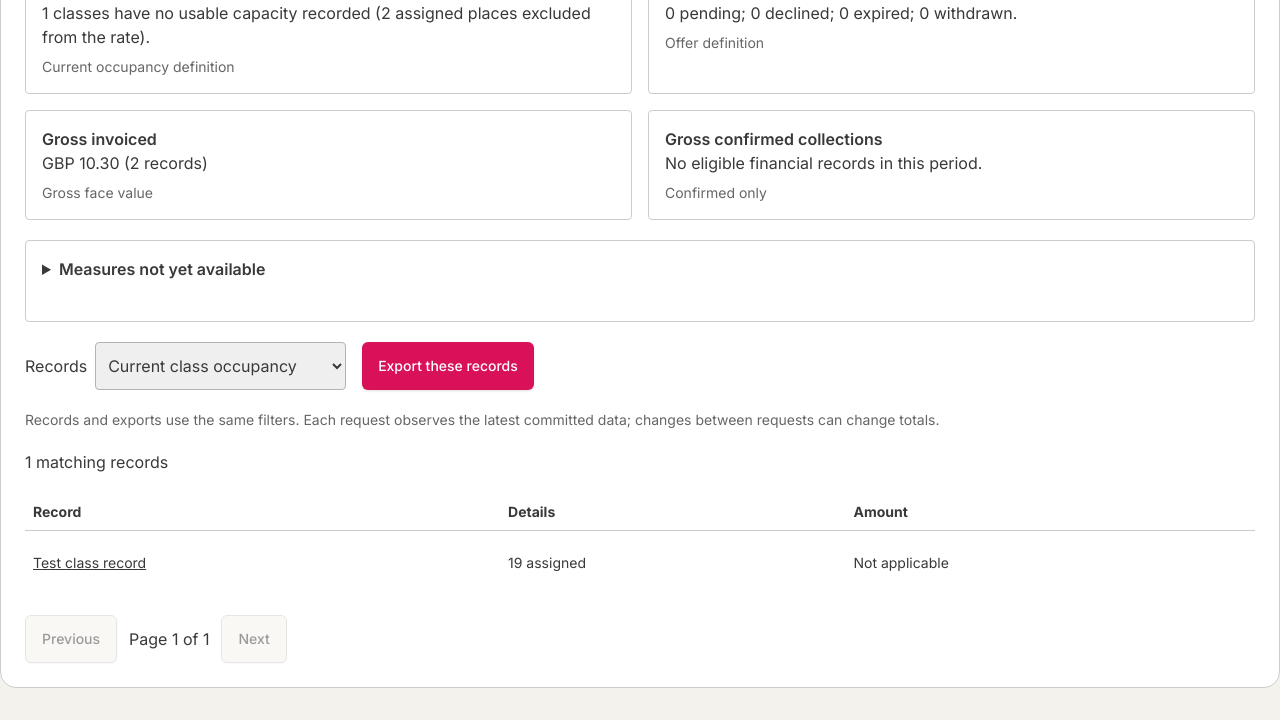
Test: prevents class-filtered money exports and surfaces failed exports
The width and height of the screenshot is (1280, 720).
(page scrolled)
Expected: the link "Test class record" is shown, x1=33 y1=554 x2=146 y2=571
Click the button "Export these records" at (448, 366), box x1=362 y1=342 x2=534 y2=390
(page scrolled)
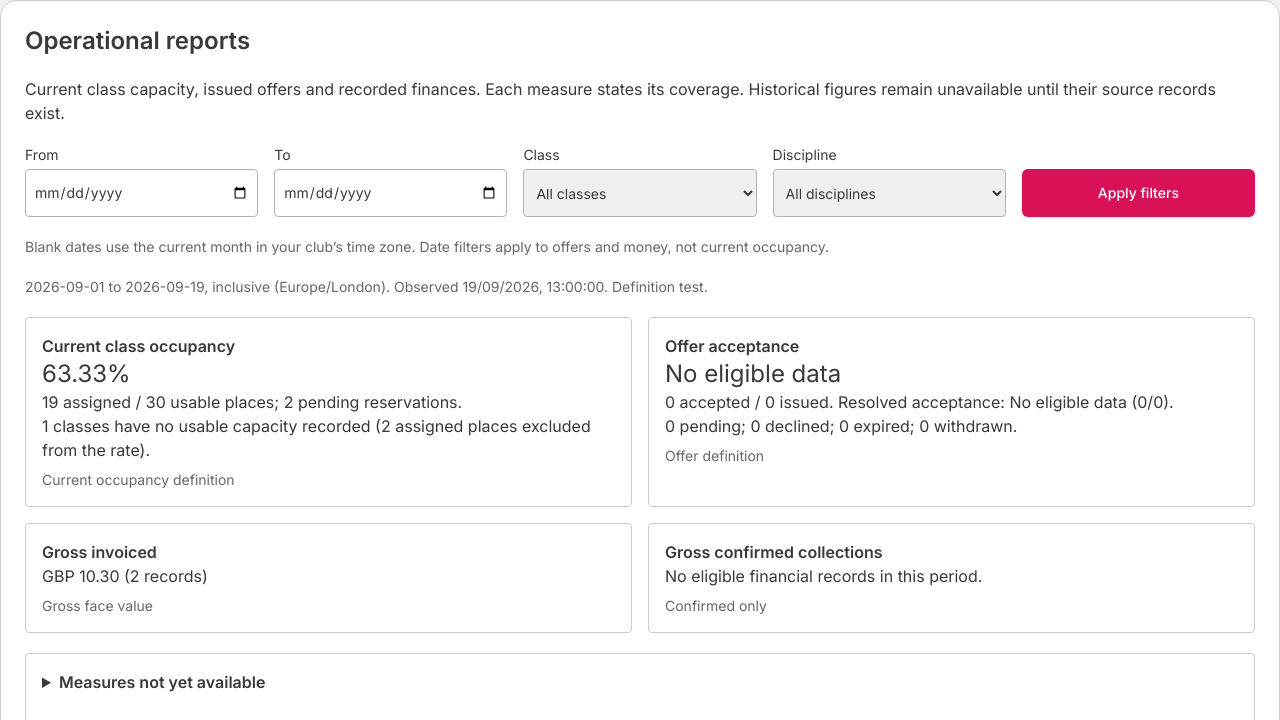
Select "Test class" in the dropdown labelled "Class" at (640, 193), box x1=523 y1=169 x2=757 y2=217
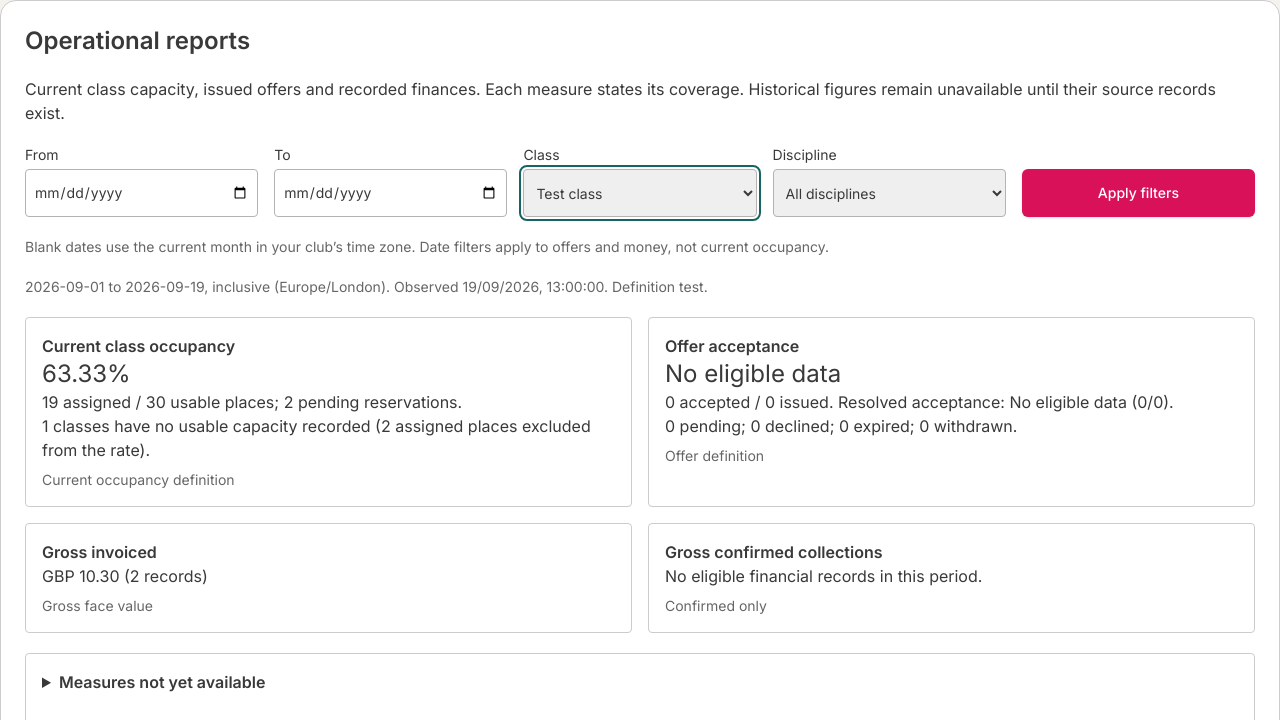
Click the button "Apply filters" at (1138, 193), box x1=1022 y1=169 x2=1255 y2=217
(page scrolled)
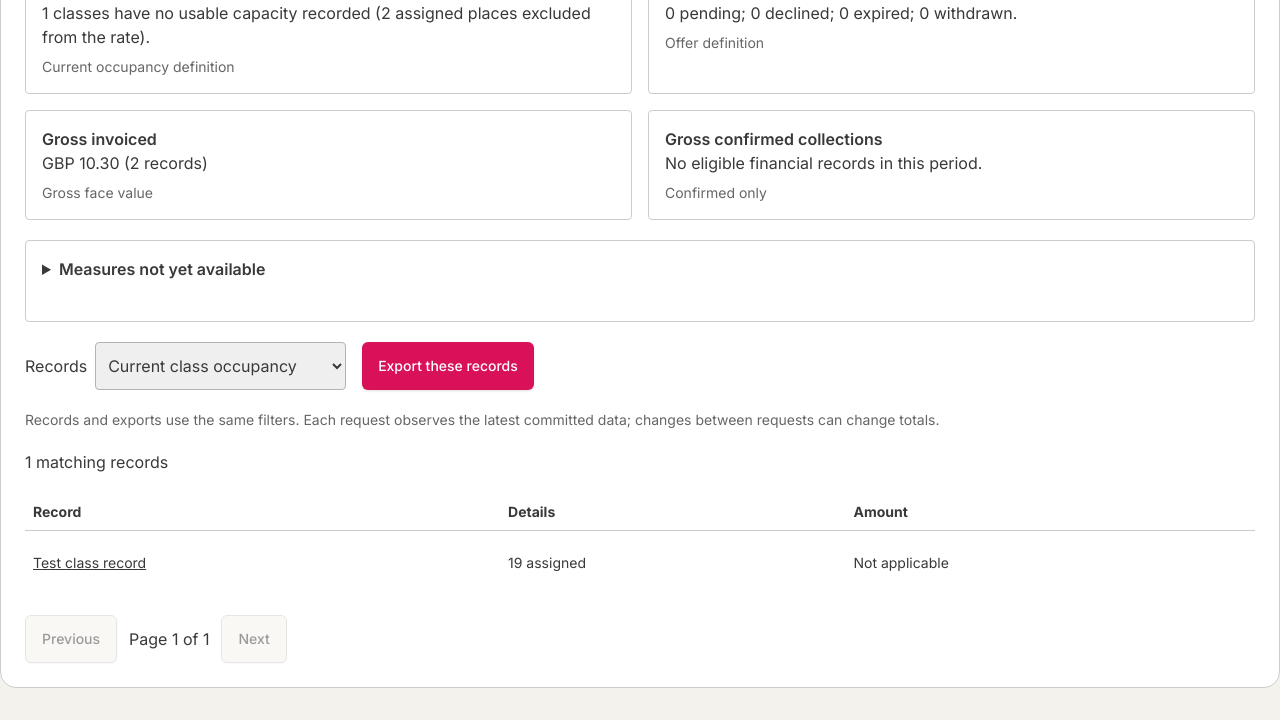
Select "Gross confirmed collections" in the dropdown labelled "Records" at (221, 366), box x1=95 y1=342 x2=346 y2=390
(page scrolled)
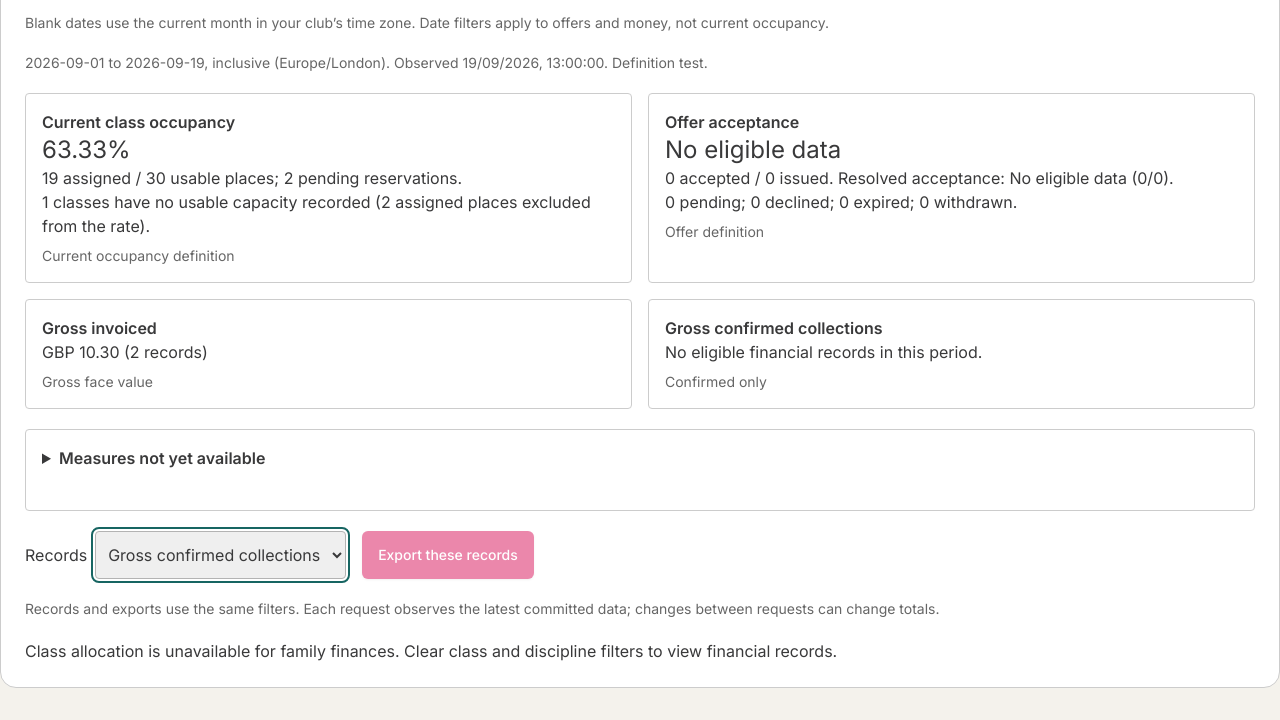
Expected: the button "Export these records" is disabled, x1=362 y1=531 x2=534 y2=579
Expected: the text "Class allocation is unavailable for family finances" is shown, x1=25 y1=641 x2=837 y2=661
